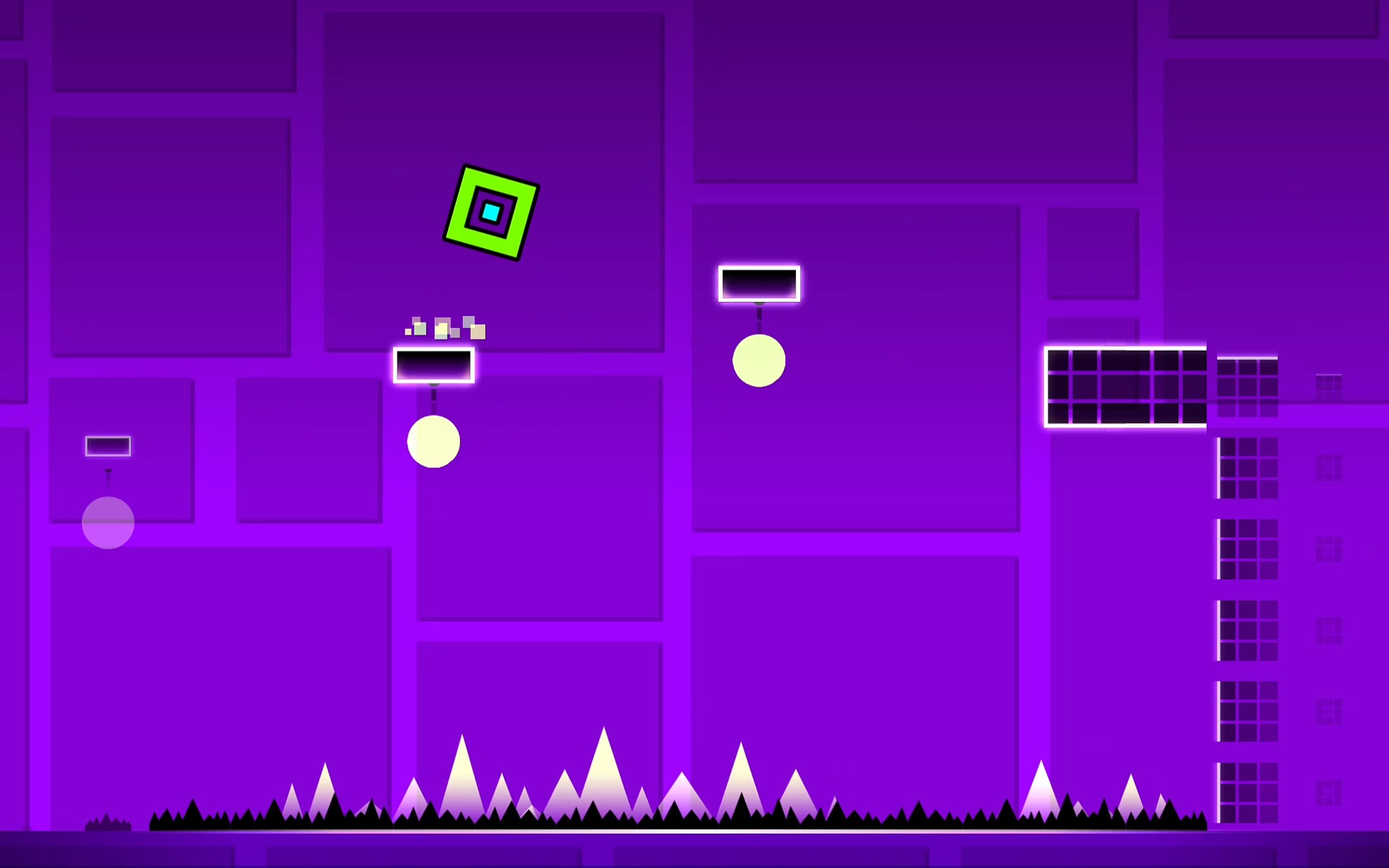Block2: (1213, 352, 1282, 825), (1049, 347, 1211, 431)
Block3: (391, 346, 477, 382), (718, 265, 802, 301), (85, 435, 130, 456)
Player: (444, 164, 538, 259)
Spike3: (32, 787, 1183, 832)
